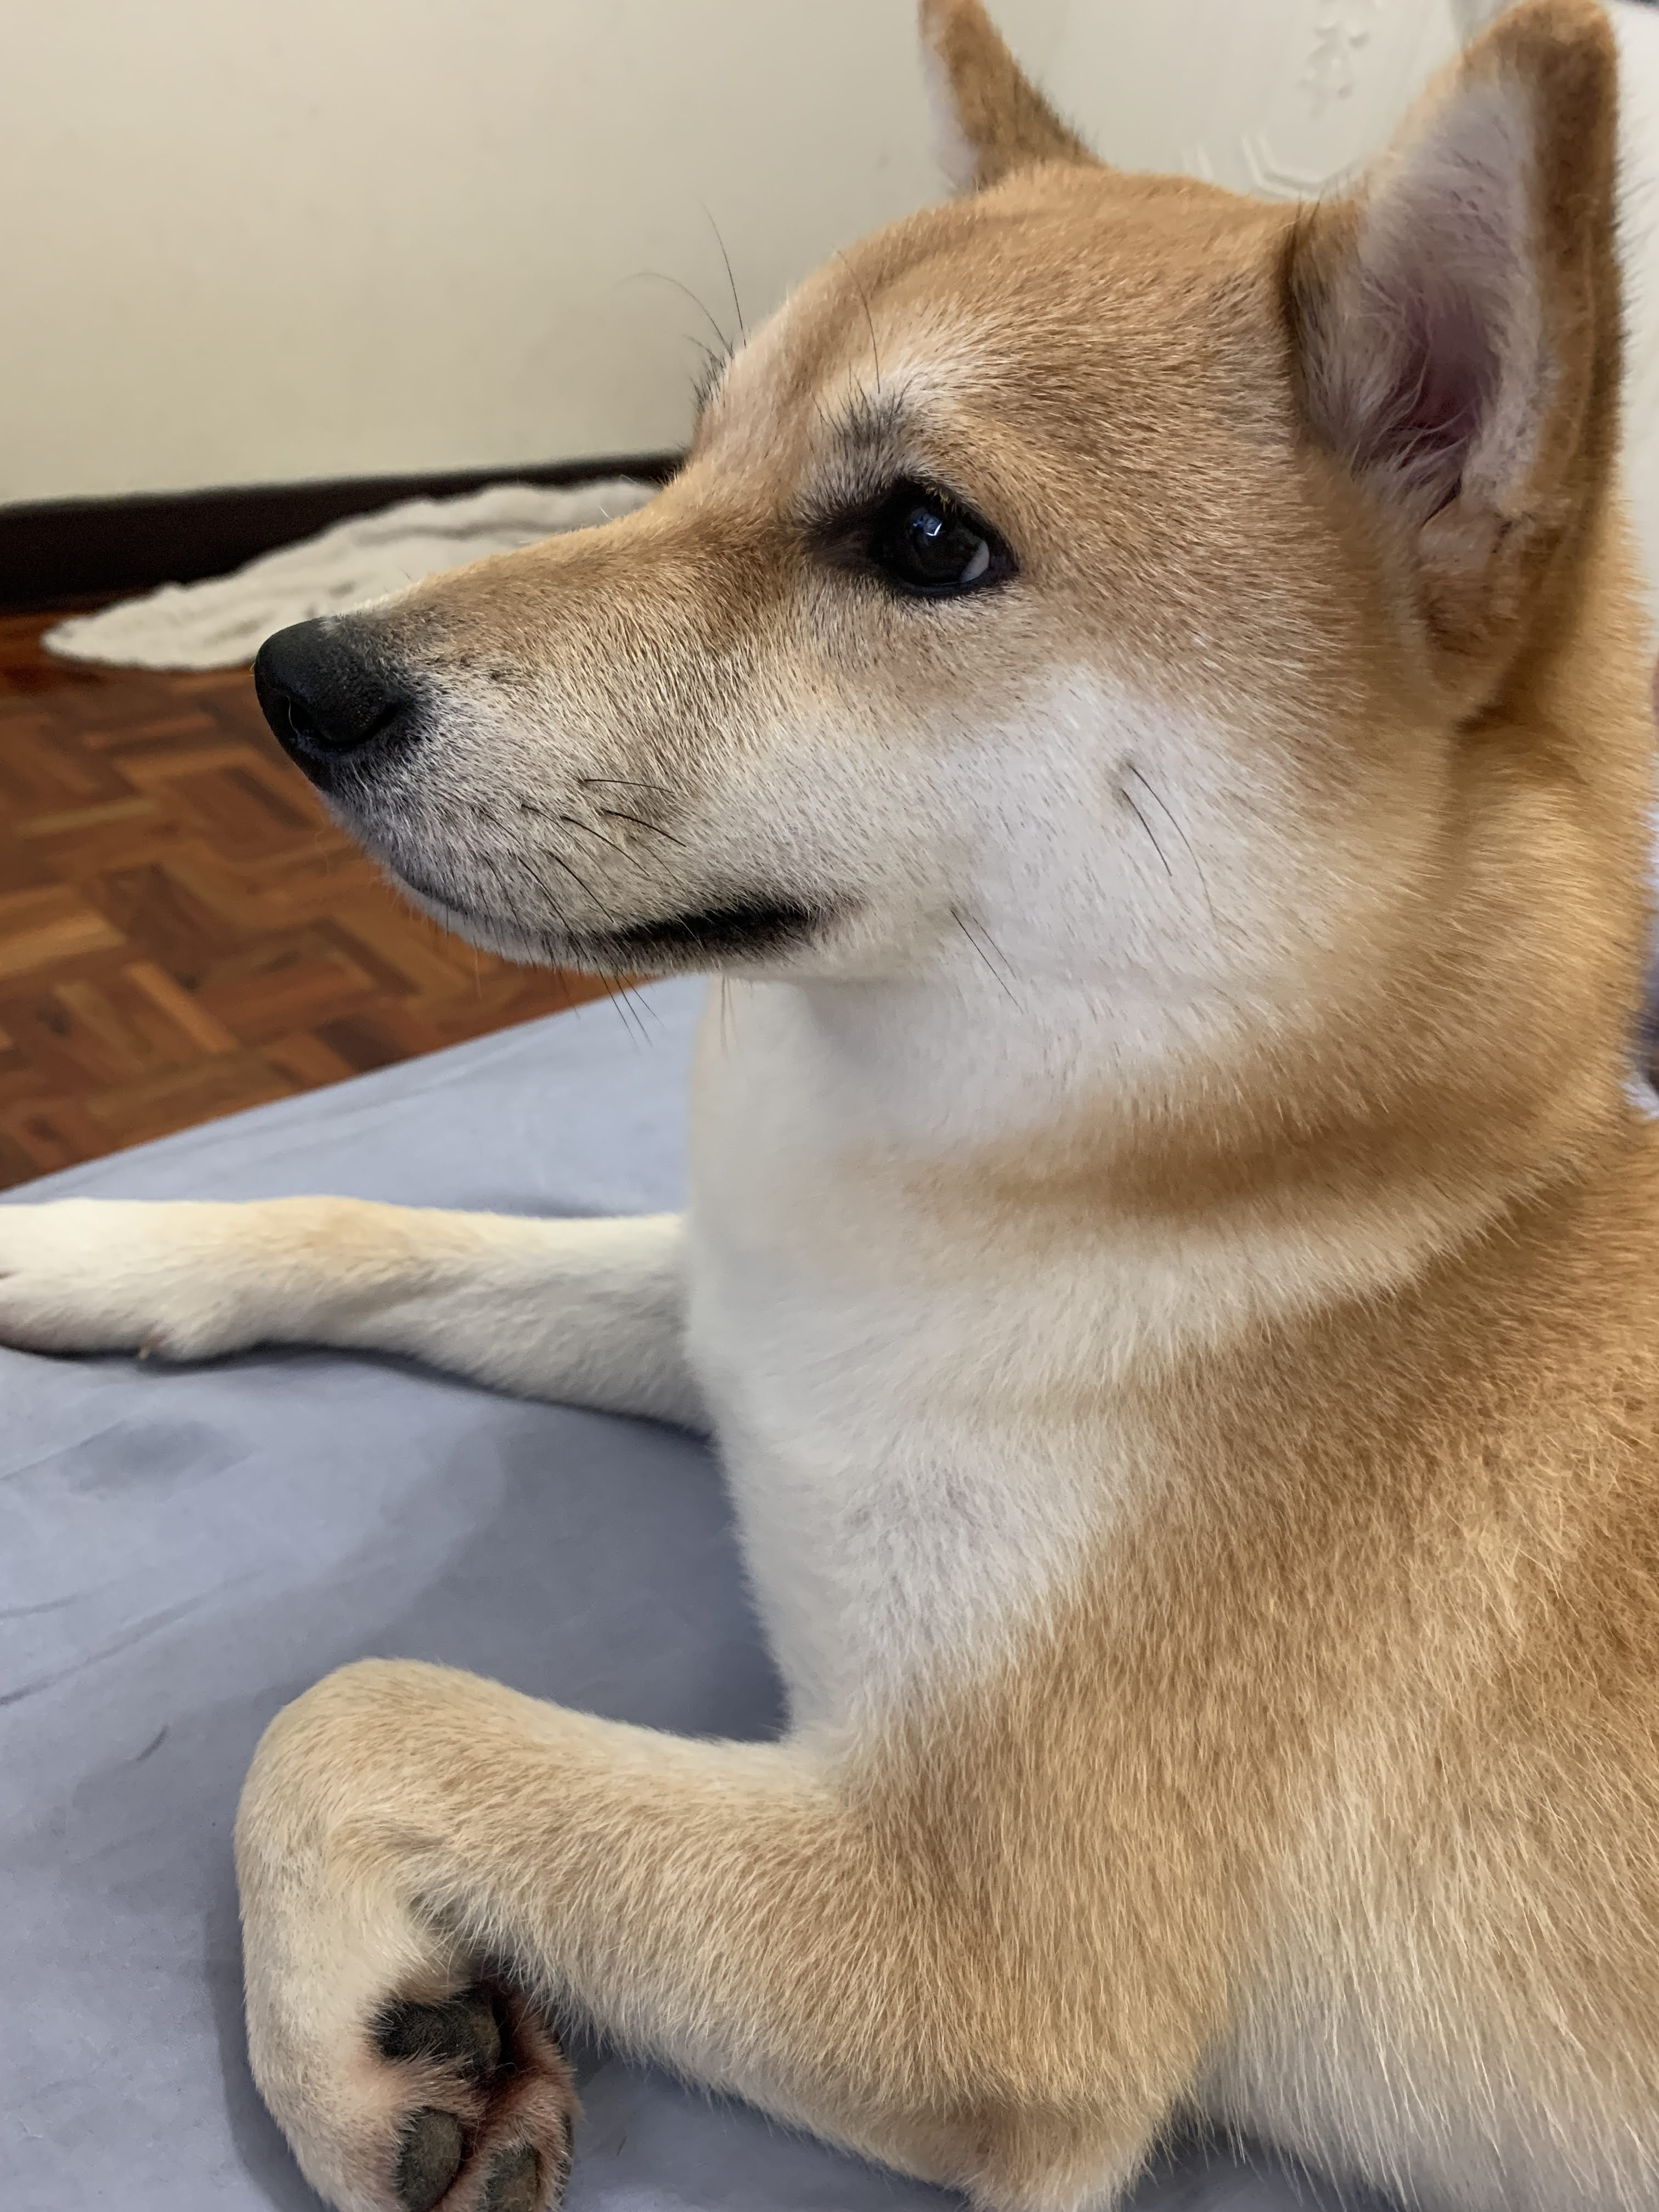Get down: (3, 30, 1605, 2212)
